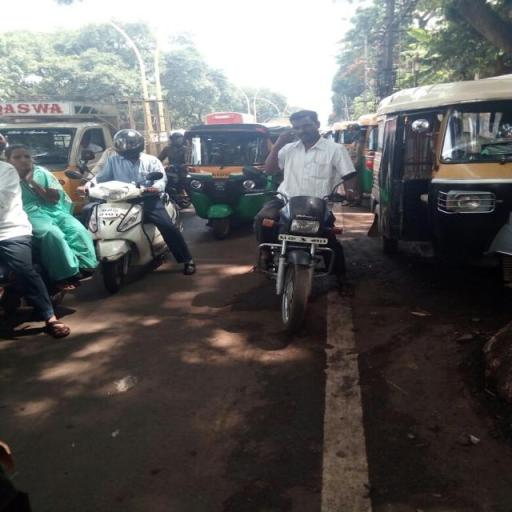bike: (246, 108, 364, 332)
numberplate: (277, 231, 332, 248)
using mobile: (286, 129, 298, 144)
withouthelmet: (292, 112, 321, 140)
